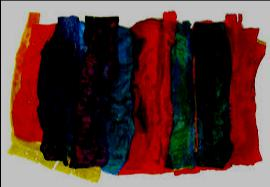Plastic: (5, 5, 106, 181), (169, 18, 269, 178), (36, 2, 109, 173), (163, 15, 233, 175)
